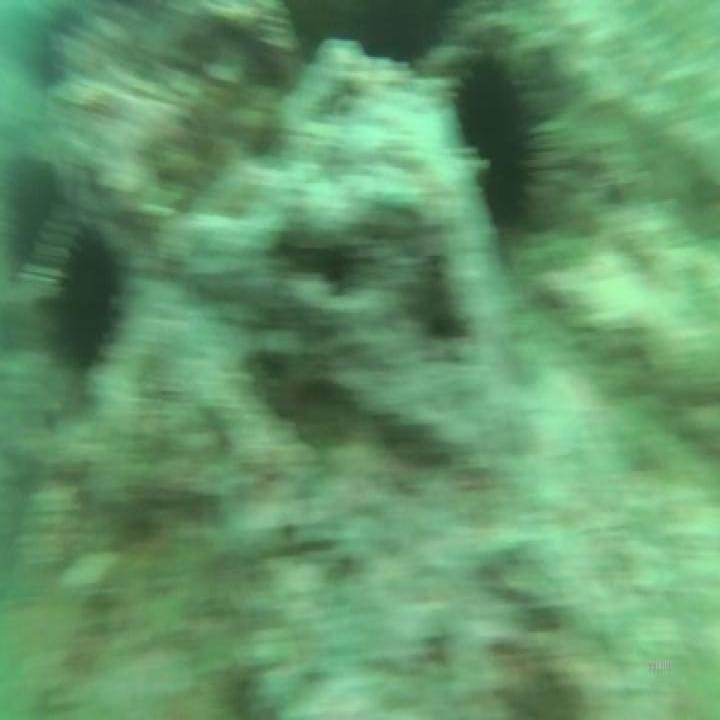echinus: (450, 32, 539, 240), (46, 202, 125, 380)
